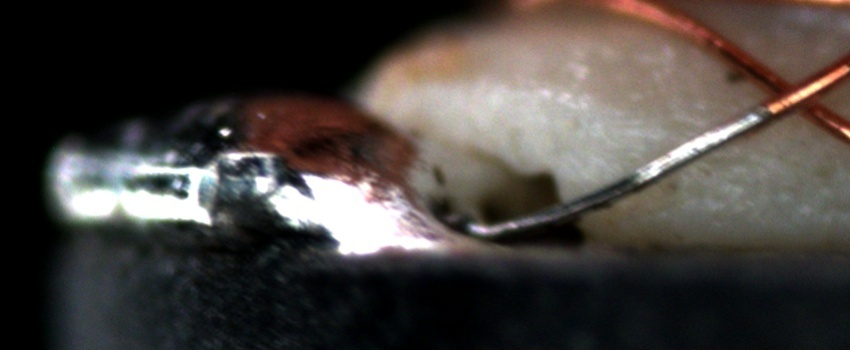CL: (751, 61, 842, 130)
DL: (594, 112, 721, 155)
TS: (463, 105, 775, 238)
